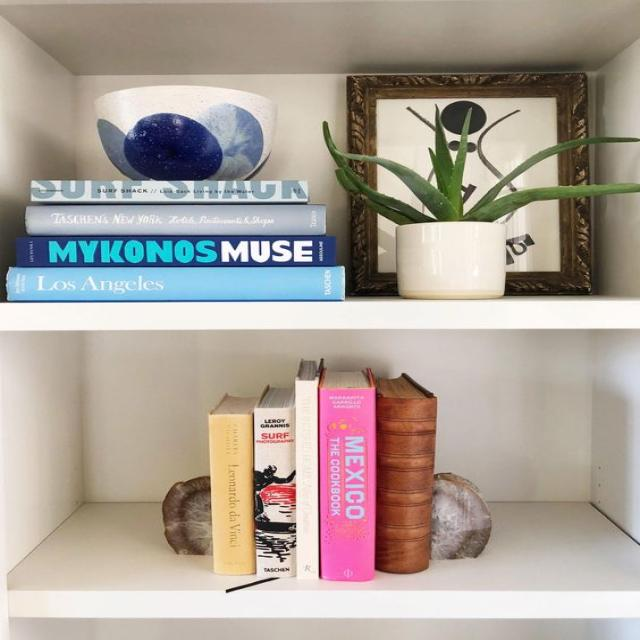book: (8, 266, 344, 301), (321, 388, 375, 580), (17, 235, 334, 267), (26, 204, 326, 235), (377, 399, 429, 573), (213, 416, 257, 578), (255, 407, 295, 576), (30, 181, 308, 203), (295, 380, 321, 579)
plants: (323, 110, 639, 298)
